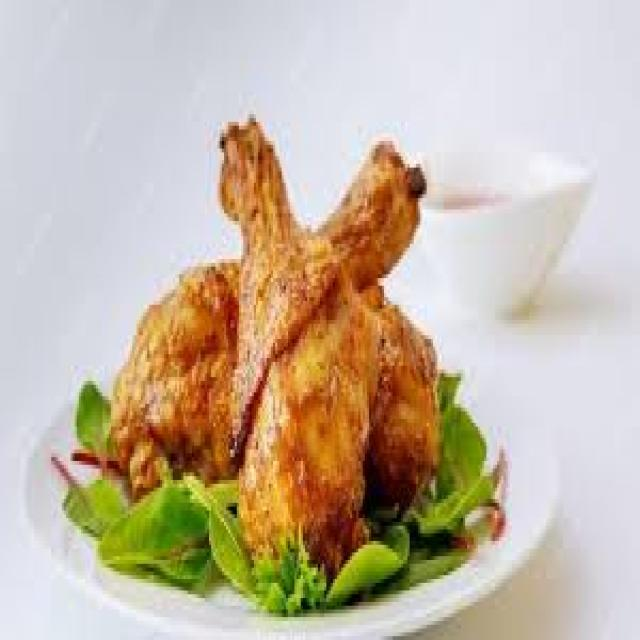ayam_goreng: (110, 111, 448, 560), (213, 117, 374, 558)
